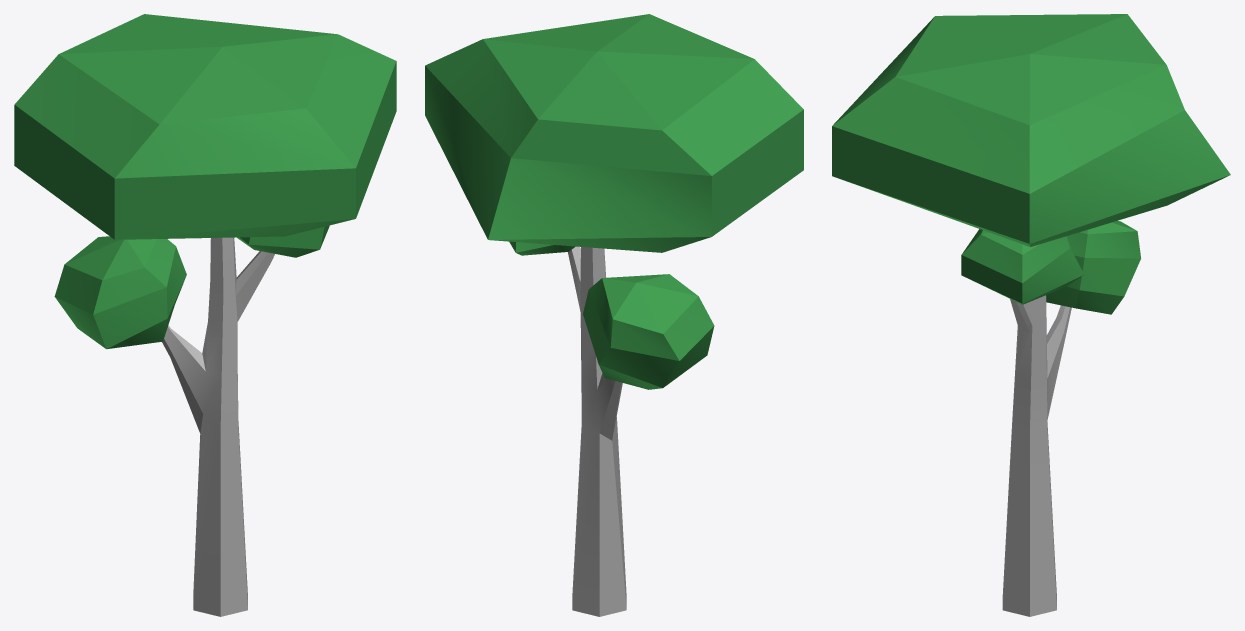
The model's file is Tree1_Model.fbx.
3 views of the same model, side by side, from view 1: azimuth 30°, elevation 25°; view 2: azimuth 150°, elevation 25°; view 3: azimuth 270°, elevation 25° (orthographic).
Parts seen in each view (by area): view 1: pSphere1, pCylinder1, pSphere3, pSphere2; view 2: pSphere1, pCylinder1, pSphere3, pSphere2; view 3: pSphere1, pCylinder1, pSphere2, pSphere3.
Boxes of the visible parts, x1,y1,x2,y2 form: pSphere1: (14,14,396,239); pCylinder1: (162,237,274,616); pSphere3: (54,236,186,349); pSphere2: (236,225,329,257); pSphere1: (425,14,803,252); pCylinder1: (568,246,626,616); pSphere3: (583,274,714,389); pSphere2: (509,241,575,255); pSphere1: (832,14,1230,246); pCylinder1: (1002,295,1071,616); pSphere2: (961,229,1084,304); pSphere3: (1046,220,1141,314).
Size of the model in its own units: 10.04 by 15.9 by 10.44.
